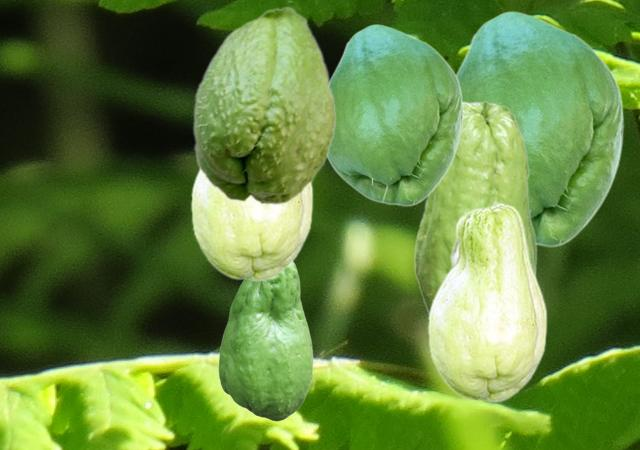sayote: (456, 11, 623, 247), (192, 5, 336, 205), (413, 100, 537, 313), (327, 24, 462, 206), (427, 202, 546, 402), (218, 262, 312, 420), (190, 168, 312, 281)
